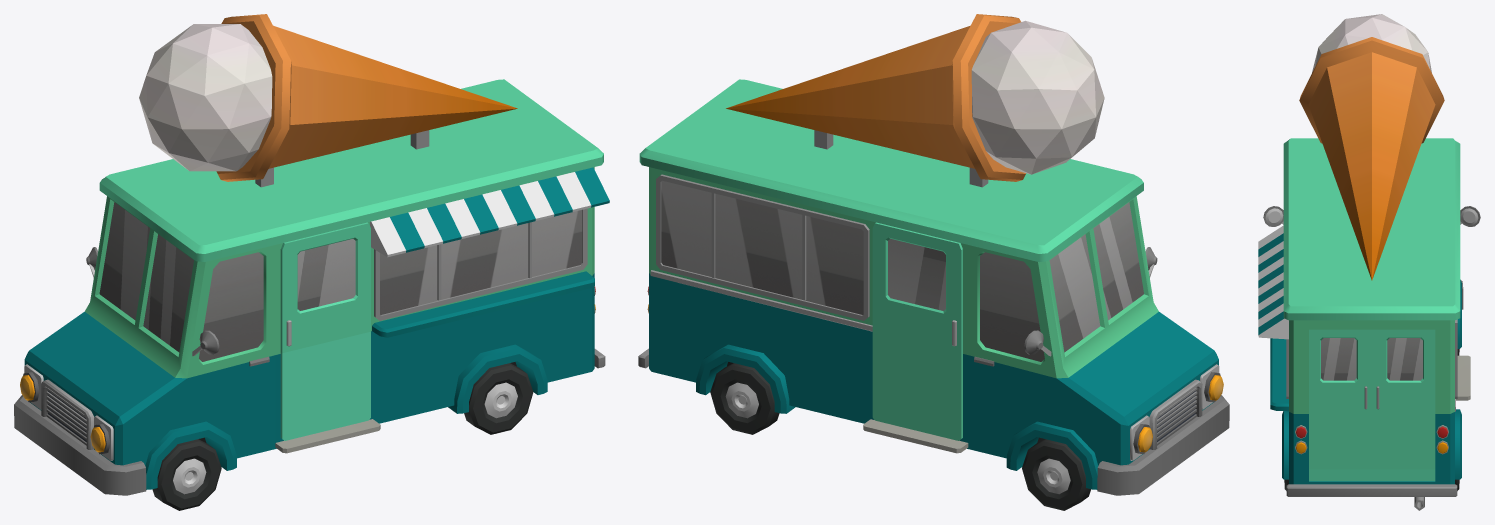
The model's file is IceTruck_1_D.fbx.
3 views of the same model, side by side, from view 1: azimuth 30°, elevation 25°; view 2: azimuth 150°, elevation 25°; view 3: azimuth 270°, elevation 25° (orthographic). The views are drawn at different scales.
Visible parts, largest first — view 1: IceTruck_1_D, RL, FL; view 2: IceTruck_1_D, RR, FR; view 3: IceTruck_1_D.
Boxes of the visible parts, box(x1,y1,x2,y2) form: IceTruck_1_D: box(14, 14, 609, 495); RL: box(464, 363, 533, 434); FL: box(152, 439, 221, 510); IceTruck_1_D: box(638, 14, 1229, 495); RR: box(710, 363, 779, 434); FR: box(1022, 439, 1090, 510); IceTruck_1_D: box(1258, 14, 1480, 510).
Bounding box in the file's own units: 416 × 338 × 184.
